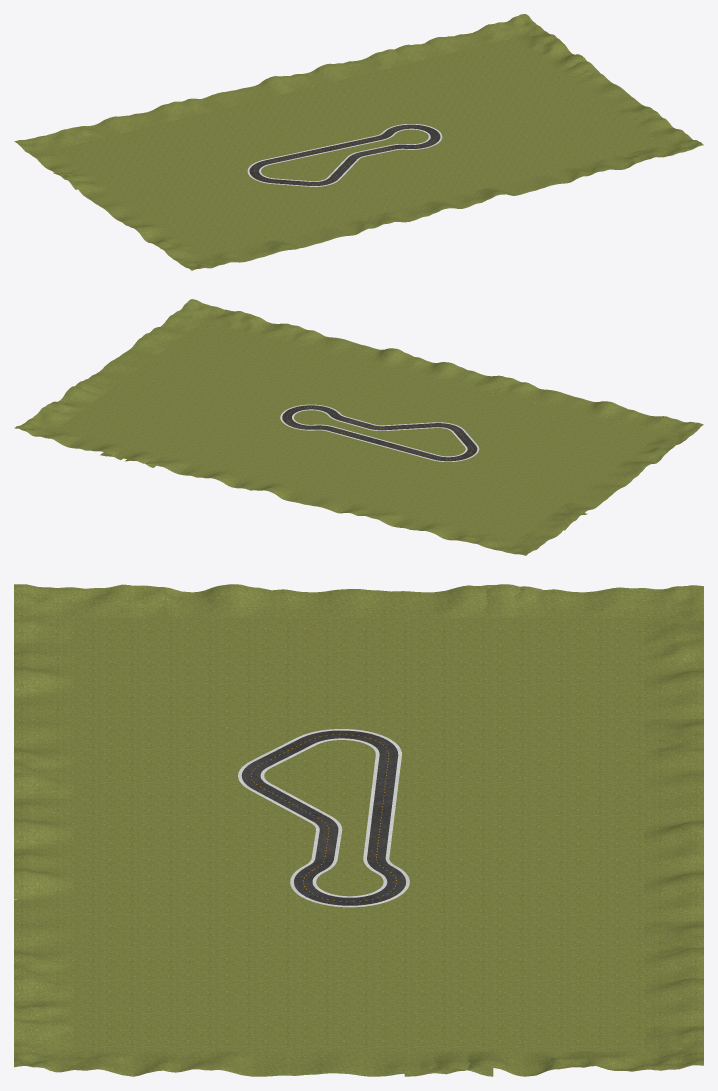
File: RTIS_track.dae
The picture shows the model from 3 angles, top to bottom: view 1: azimuth 30°, elevation 25°; view 2: azimuth 150°, elevation 25°; view 3: azimuth 270°, elevation 25°; orthographic projection. The views are drawn at different scales.
Parts seen in each view (by area): view 1: field, bg_terrain, border_curve_inner, inner_border; view 2: field, bg_terrain, border_curve_inner, inner_border; view 3: field, bg_terrain, border_curve_inner, inner_border.
Part boxes in pixels (box(x1,y1,x2,y2)): field: box(56, 37, 661, 256); bg_terrain: box(14, 14, 703, 270); border_curve_inner: box(249, 124, 440, 185); inner_border: box(247, 124, 442, 186); field: box(56, 322, 661, 541); bg_terrain: box(14, 299, 703, 555); border_curve_inner: box(282, 405, 477, 461); inner_border: box(280, 404, 479, 461); field: box(74, 617, 643, 1051); bg_terrain: box(14, 584, 703, 1076); border_curve_inner: box(241, 730, 405, 905); inner_border: box(238, 729, 409, 907).
Bounding box in the file's own units: 920 × 554 × 11.66.
Materials: 5 (5 with a texture image).
